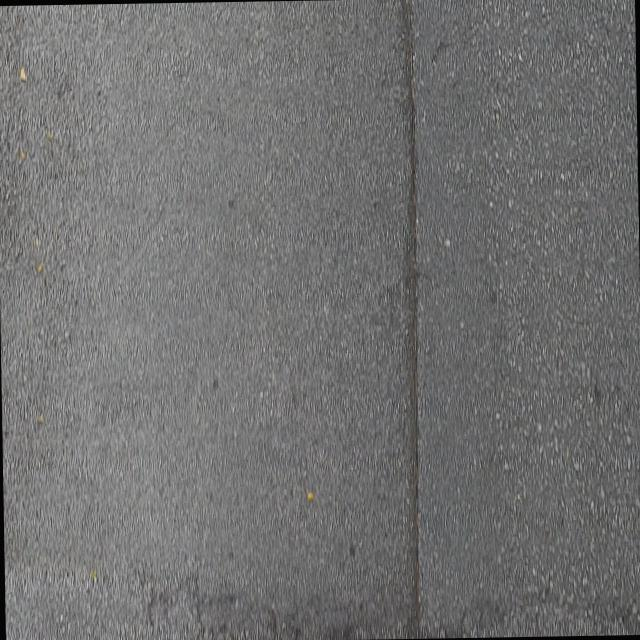Retak-Memanjang: (403, 1, 427, 620)
